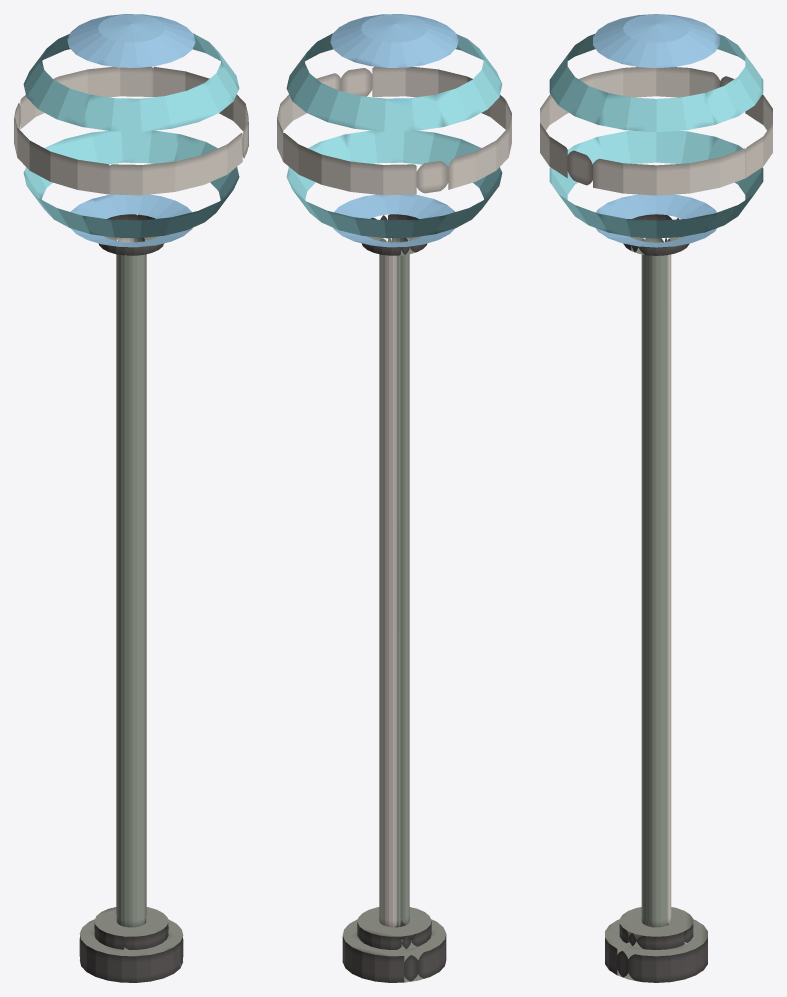
The model's file is futurelamp.fbx.
3 views of the same model, side by side, from view 1: azimuth 30°, elevation 25°; view 2: azimuth 150°, elevation 25°; view 3: azimuth 270°, elevation 25° (orthographic).
Visible parts, largest first — view 1: futurelamp; view 2: futurelamp; view 3: futurelamp.
Boxes of the visible parts, bbox=[...] form: futurelamp: bbox=[14, 14, 248, 982]; futurelamp: bbox=[277, 14, 511, 982]; futurelamp: bbox=[540, 14, 772, 982].
Bounding box in the file's own units: 100 × 440 × 98.98.
